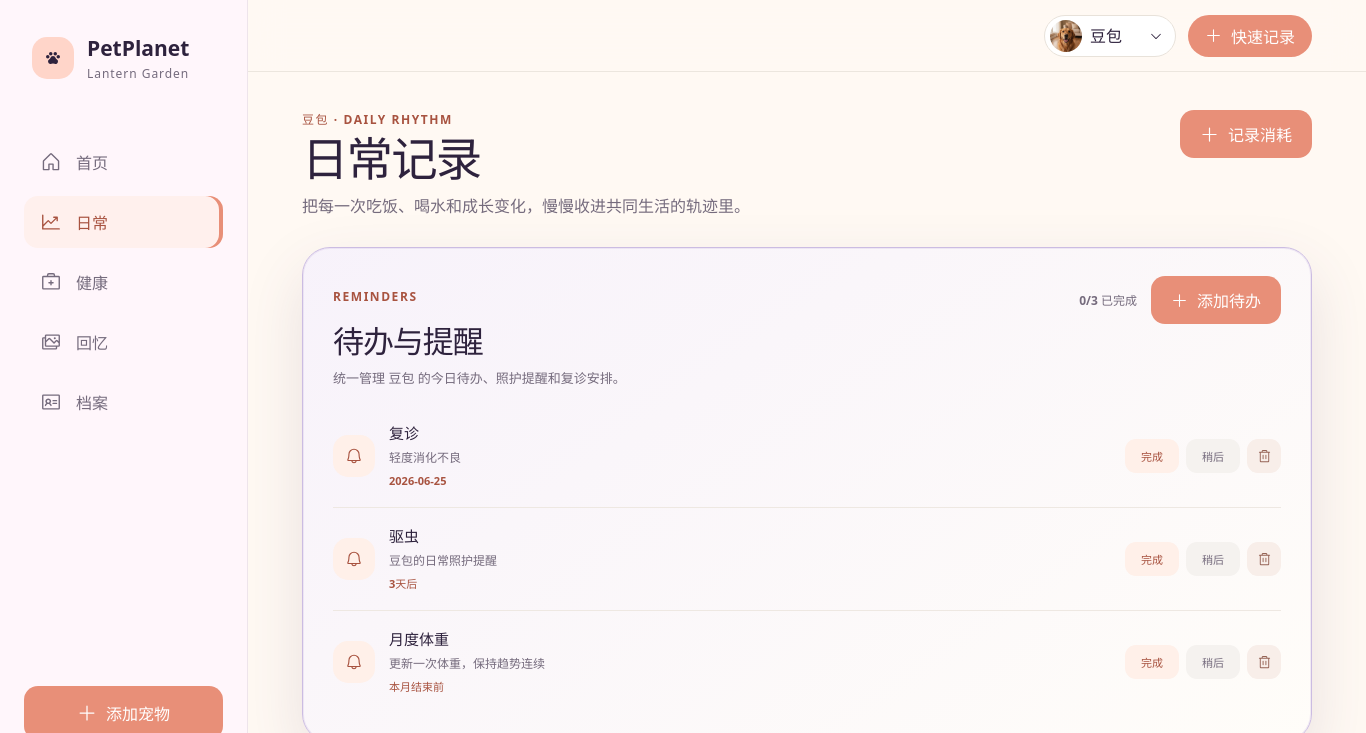
Test: PetPlanet app › keeps Daily reminders validated and scoped to the current pet
The width and height of the screenshot is (1366, 733).
Click the button "添加待办" at (1216, 300), box [1151,276,1281,324]
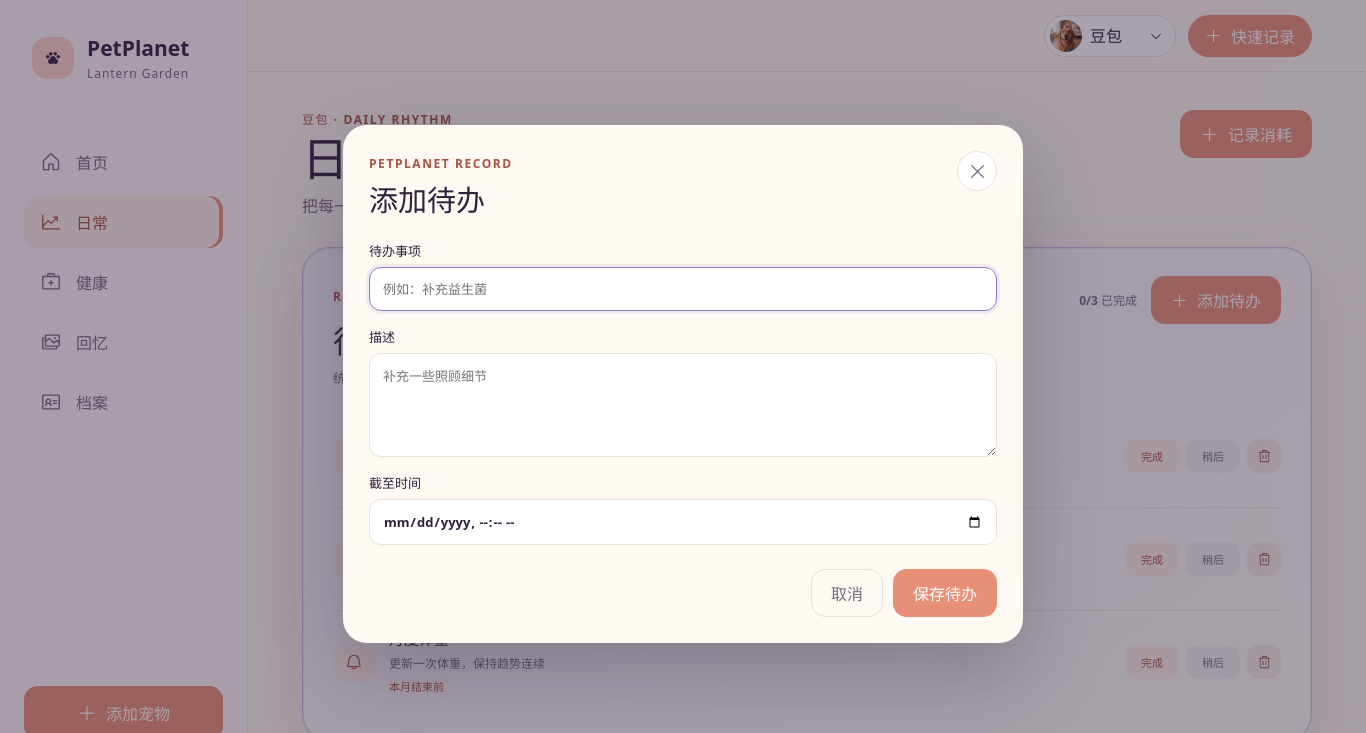
Click the button "保存待办" at (945, 593), box [893,569,997,617]
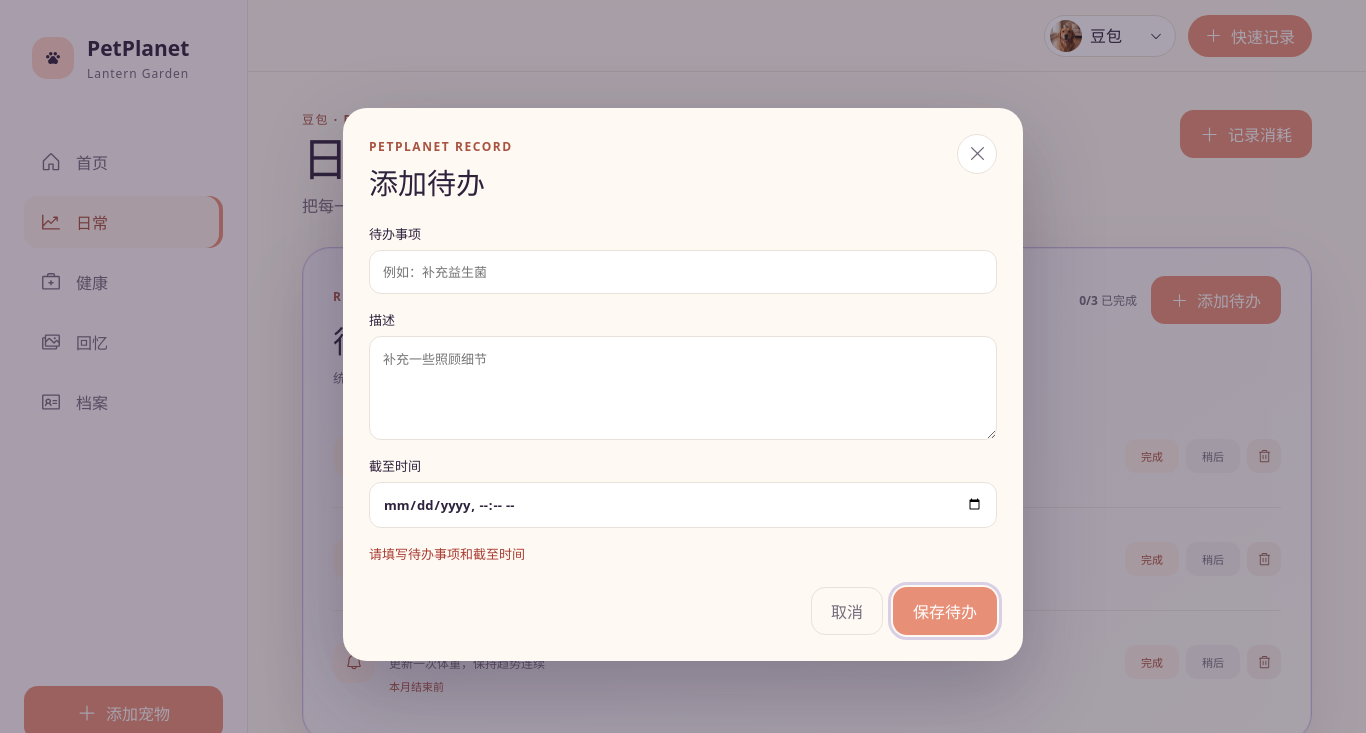
Expected: the message reads "请填写待办事项和截至时间", [369,544,525,562]
Type "补充益生菌" into the field labelled "待办事项" at (683, 272), box [369,250,997,294]
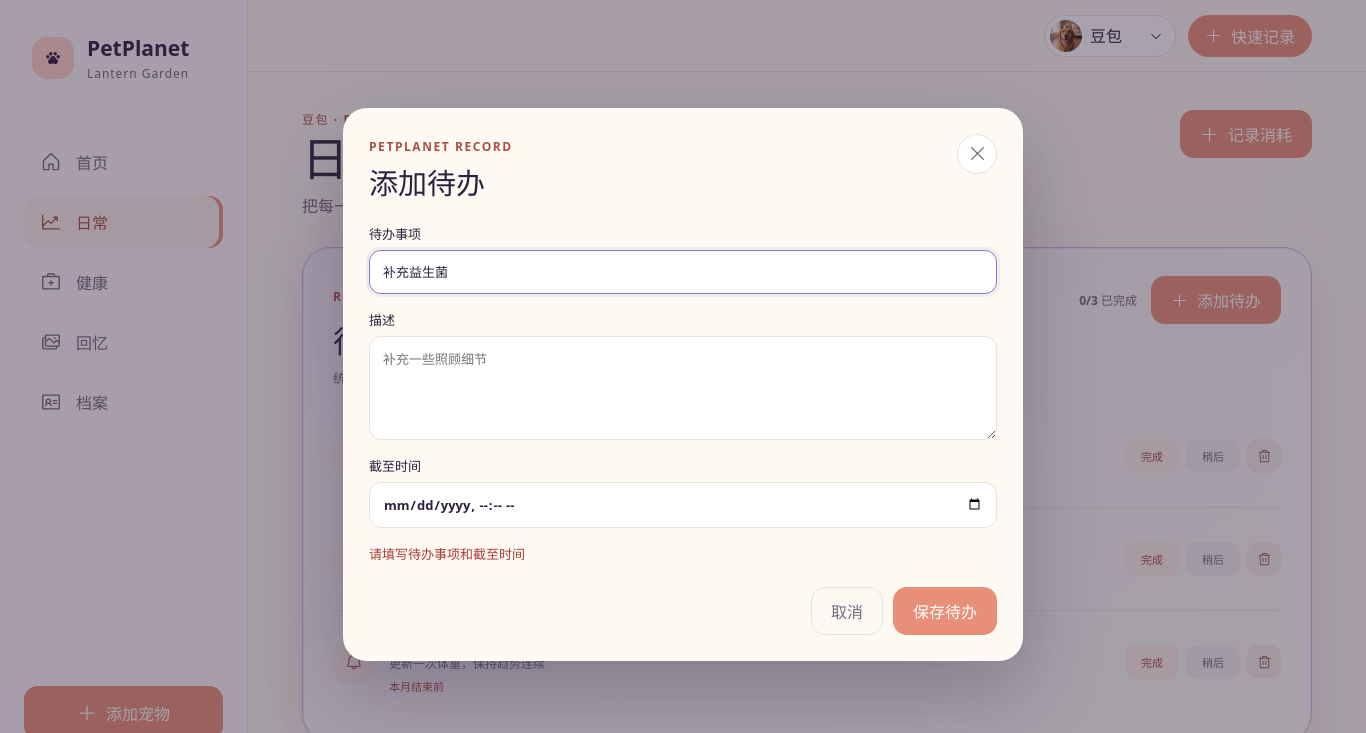
Type "2026-07-01T18:30" into the field labelled "截至时间" at (683, 504), box [369,482,997,528]
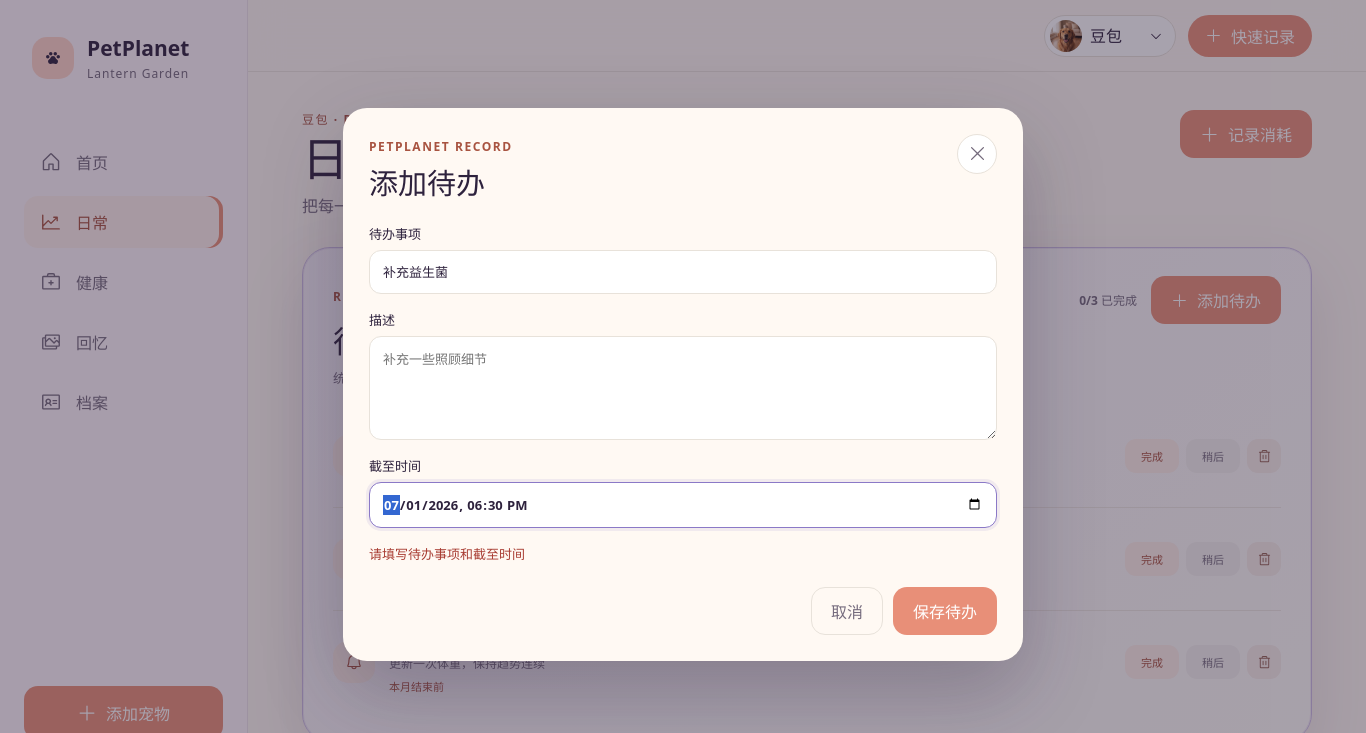
Click the button "保存待办" at (945, 610), box [893,586,997,634]
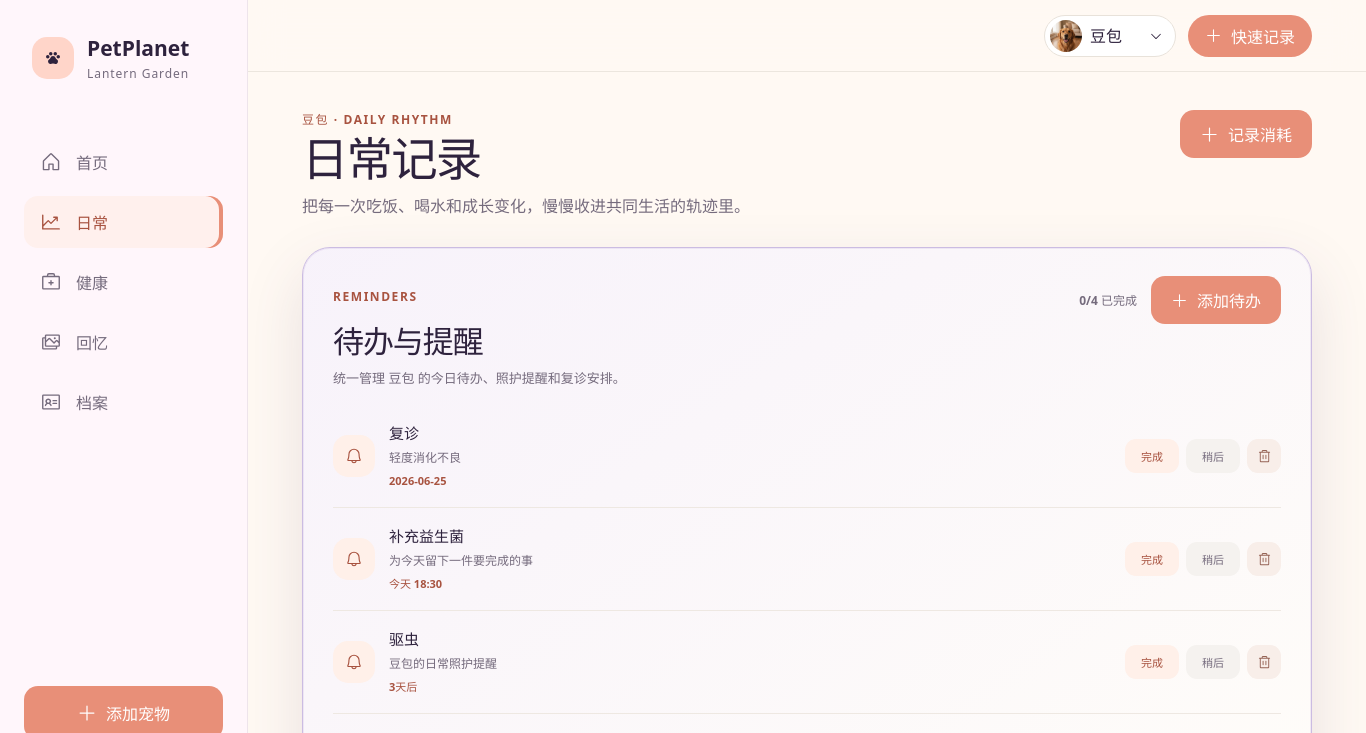
Select "米粒" in the dropdown named "当前宠物" at (1116, 36), box [1090,24,1141,46]
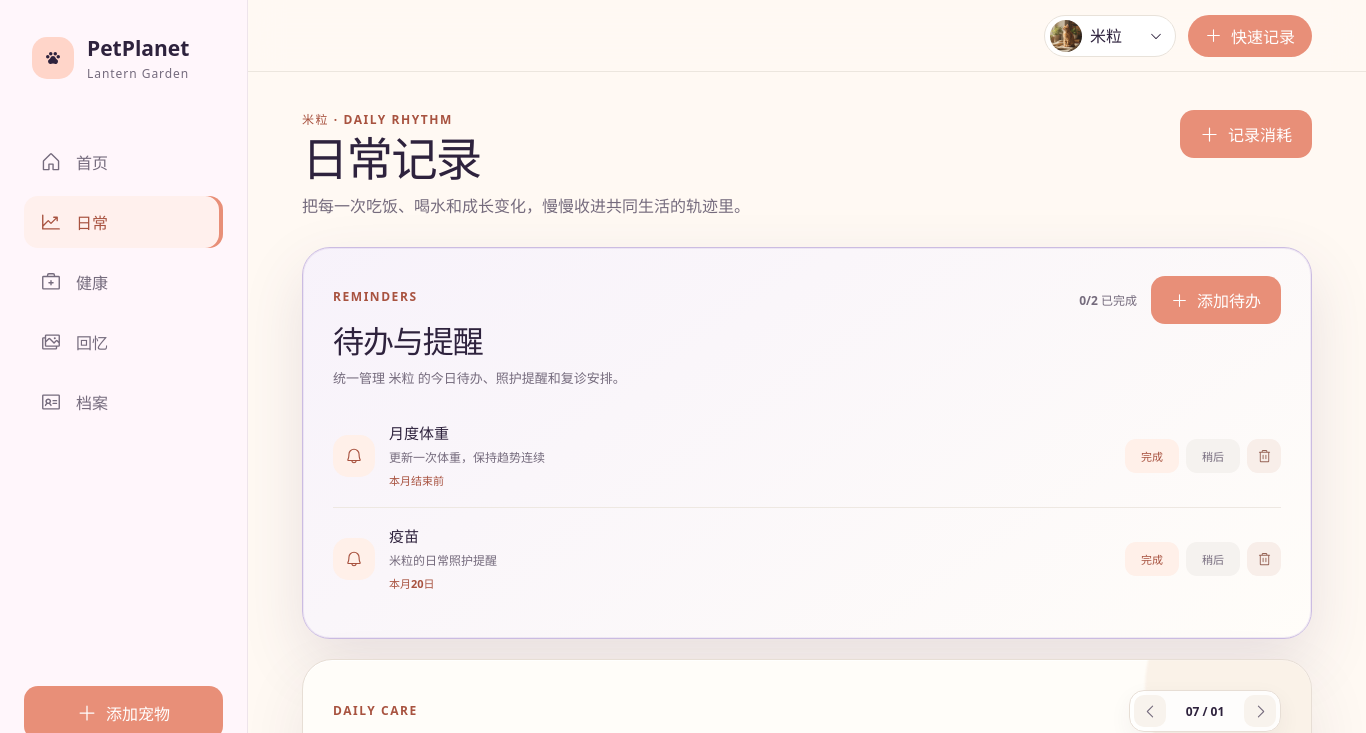
Expected: the text "补充益生菌" is gone
